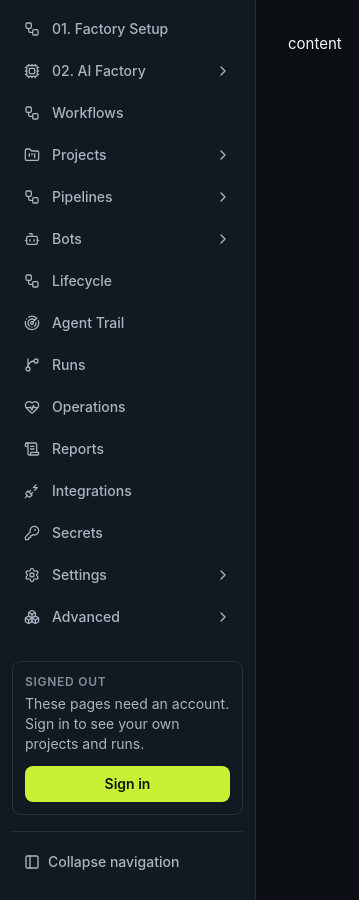
retracting the column on a pointer device › offers the way in as the same glyph when signed out
This screenshot has width=359, height=900.
(page scrolled)
Expected: the text "Signed out" is shown, top-left (25, 674), bottom-right (106, 689)
Click the button "Collapse navigation".
click(128, 862)  # box top-left (12, 844), bottom-right (243, 880)
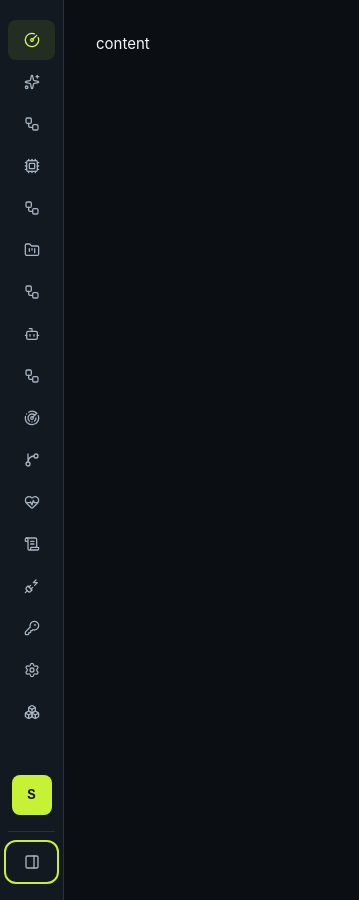
Expected: the text "Signed out" is gone
Expected: the link named "Sign in" reads "S", top-left (12, 775), bottom-right (52, 815)
